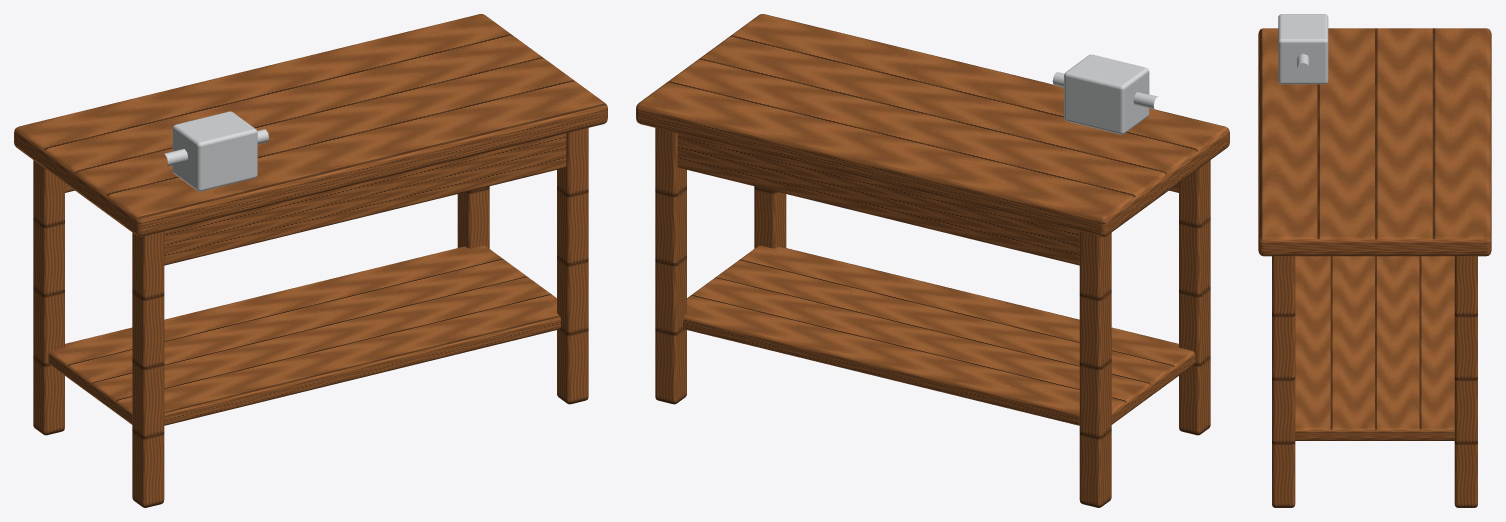
File: paranormal-investigation-house-workbench-5acf73a0__26757.glb
3 views of the same model, side by side, from view 1: azimuth 30°, elevation 25°; view 2: azimuth 150°, elevation 25°; view 3: azimuth 270°, elevation 25° (orthographic). The views are drawn at different scales.
Parts seen in each view (by area): view 1: workbench; view 2: workbench; view 3: workbench.
Boxes of the visible parts, x1,y1,x2,y2 form: workbench: (14,14,607,507); workbench: (636,14,1229,507); workbench: (1258,14,1491,507).
Size of the model in its own units: 1.4 by 0.99 by 0.65.
Materials: 2 (1 with a texture image).
